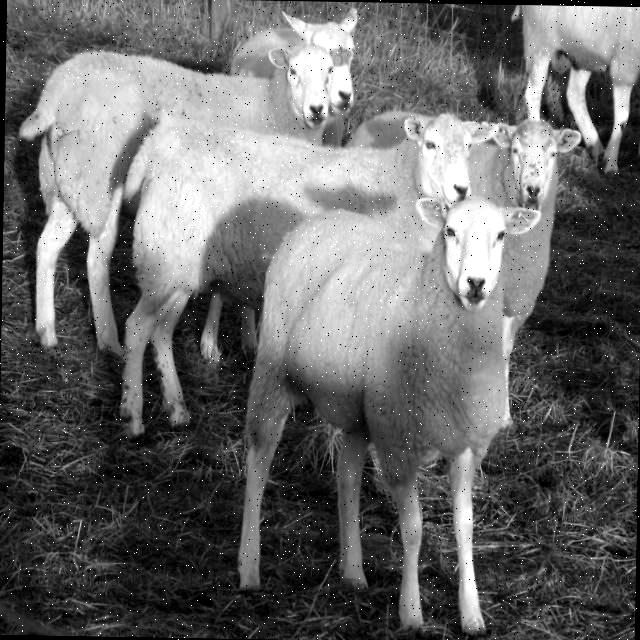sheep: (241, 195, 532, 630), (118, 111, 490, 432), (17, 46, 333, 346), (359, 114, 576, 345), (510, 4, 640, 171), (231, 8, 356, 143)
